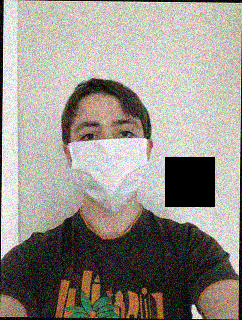with_mask: (66, 111, 150, 216)
